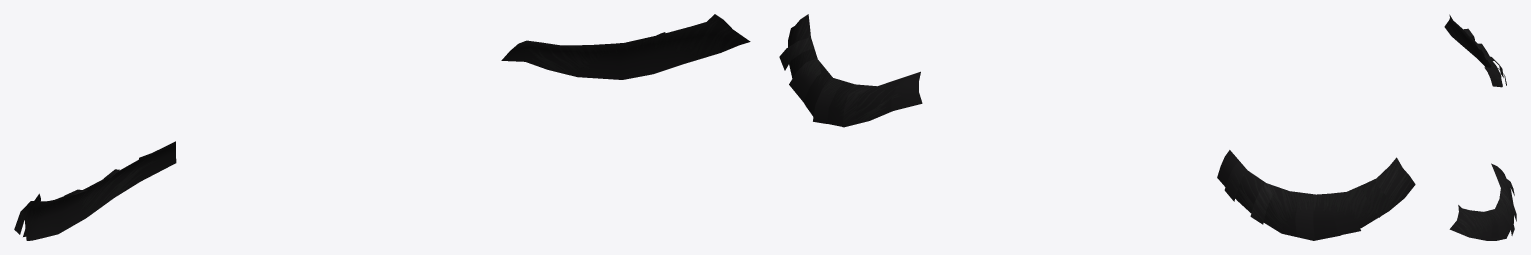
The model's file is eyelashesLower.obj.
3 renders of one model, left to right at view 1: azimuth 30°, elevation 25°; view 2: azimuth 150°, elevation 25°; view 3: azimuth 270°, elevation 25°, orthographic. The views are drawn at different scales.
Visible parts, largest first — view 1: mrus_head_eyelashesLower; view 2: mrus_head_eyelashesLower; view 3: mrus_head_eyelashesLower.
Boxes of the visible parts, left/top/right/bottom form: mrus_head_eyelashesLower: left=14, top=14, right=750, bottom=240; mrus_head_eyelashesLower: left=779, top=14, right=1415, bottom=240; mrus_head_eyelashesLower: left=1444, top=14, right=1516, bottom=240.
Size of the model in its own units: 0.0948 by 0.0113 by 0.0139.
1 material, 1 textured.
